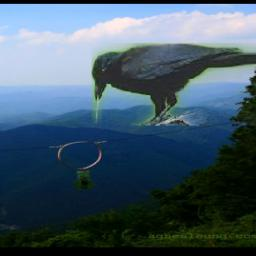Crow: (93, 44, 256, 127)
